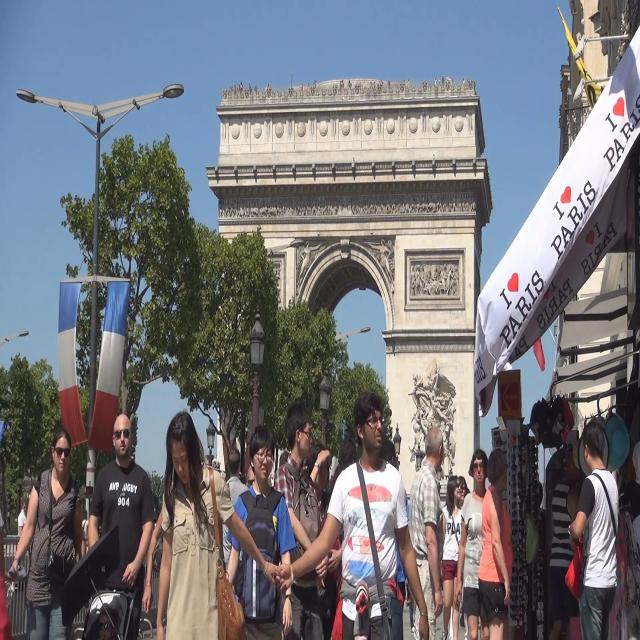body: (275, 386, 430, 639), (155, 410, 285, 639), (5, 422, 87, 640), (86, 410, 154, 640), (272, 398, 329, 640), (565, 416, 620, 639), (139, 458, 212, 620), (215, 190, 480, 225), (408, 424, 444, 640), (306, 441, 343, 639), (454, 446, 491, 640), (72, 495, 121, 640), (476, 448, 513, 639), (547, 445, 581, 638), (328, 431, 398, 512), (408, 365, 458, 474), (441, 474, 466, 640), (222, 447, 250, 573), (244, 446, 292, 497), (529, 477, 548, 603), (364, 234, 396, 304), (293, 238, 328, 294), (411, 262, 462, 300), (337, 77, 392, 96), (226, 79, 274, 99), (432, 73, 470, 90), (17, 497, 30, 538), (268, 263, 281, 301), (298, 79, 318, 98), (458, 474, 468, 510), (404, 75, 412, 92)
